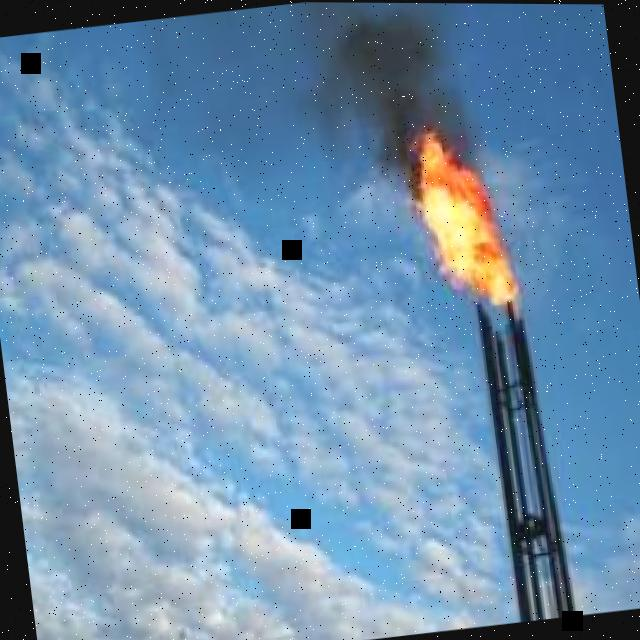fire: (413, 131, 523, 304)
smoke: (303, 2, 477, 202)
